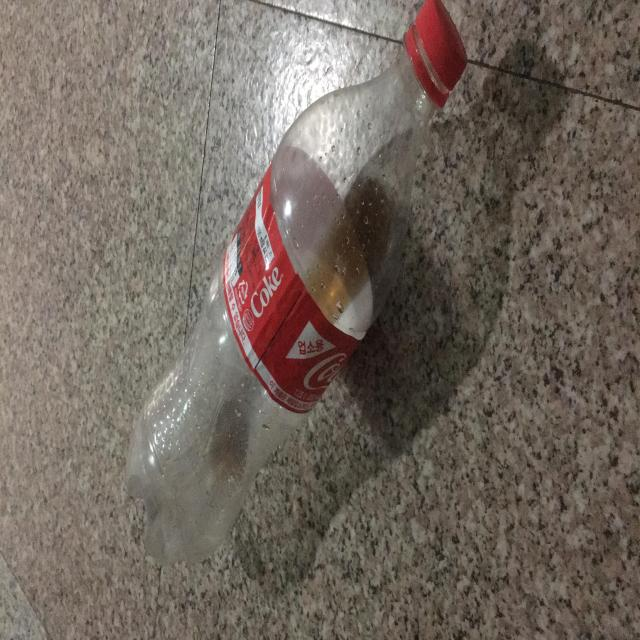bottle: (118, 0, 469, 577)
